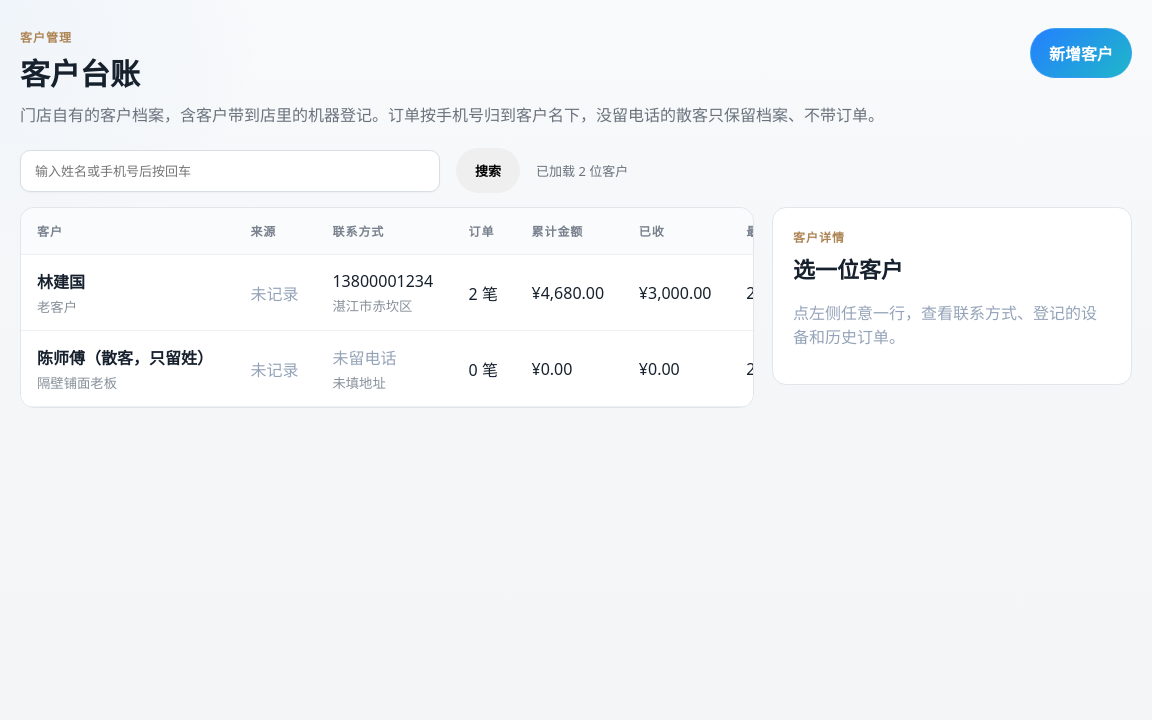
Test: 客户详情与设备 › 详情里的累计金额、订单数与已收都来自服务端，不出现 NaN
Click the text "林建国": x=61, y=282 [37,271,85,293]
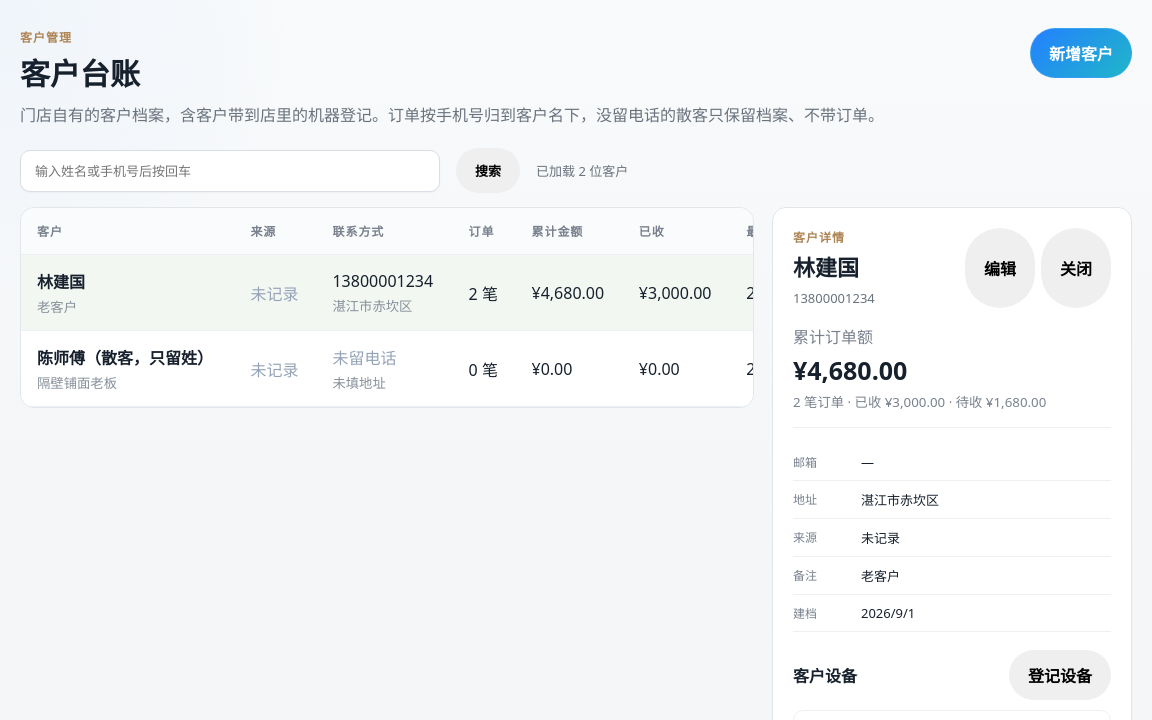
Check: the element with class "customer-total" shows "¥4,680.00", box [793,353,907,387]
Check: the element with class "customer-total" shows "2 笔订单", box [793,308,1111,428]
Check: the element with class "customer-total" shows "已收 ¥3,000.00", box [793,308,1111,428]
